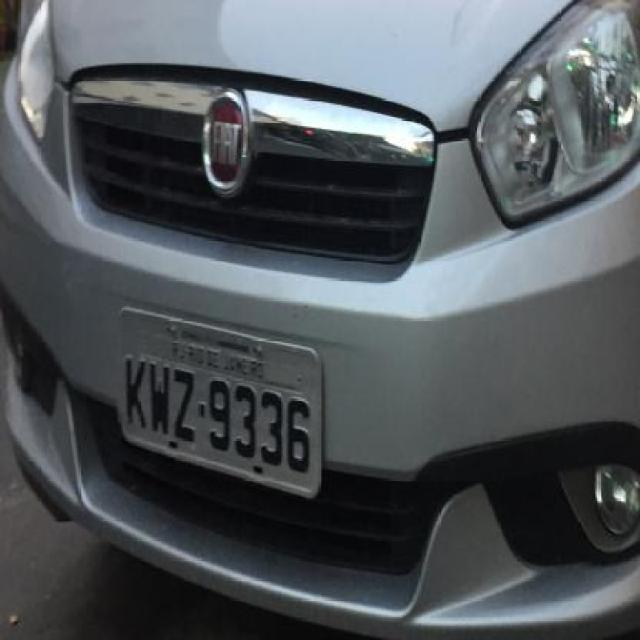old_plate: (110, 297, 332, 508)
